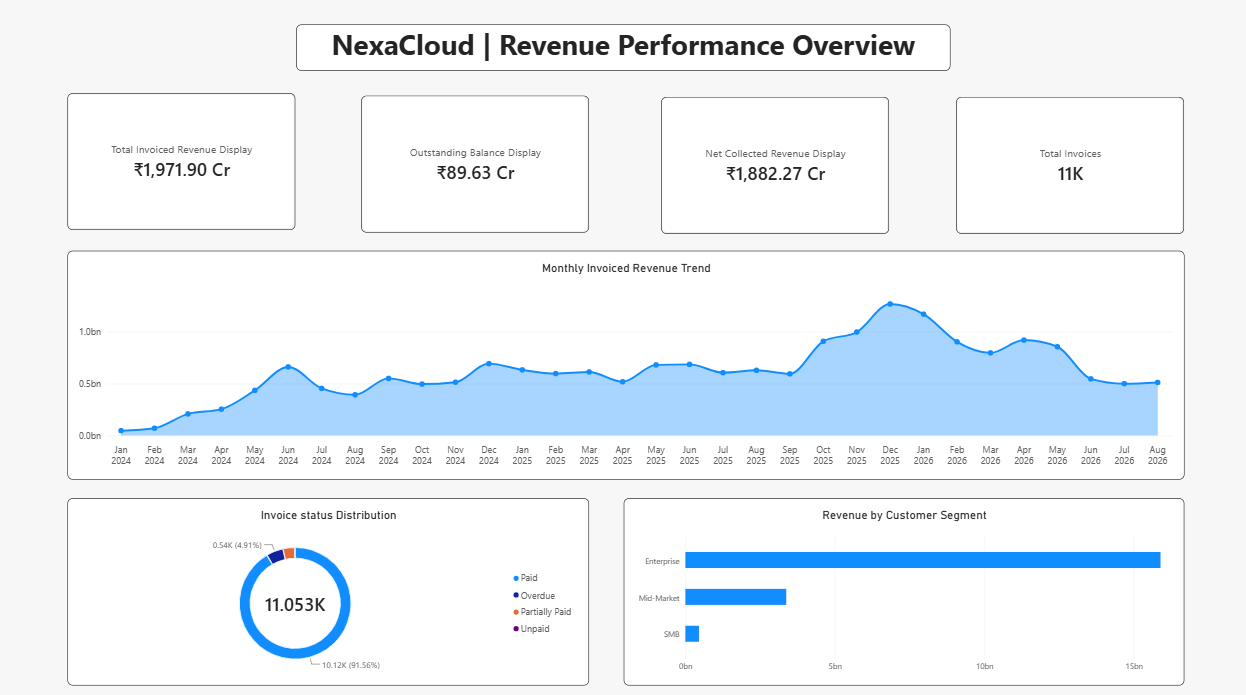

This screenshot's page, from the dashboard's own definition file:
{"tool":"powerbi","page":{"name":"Revenue Performance Overview","canvas":[1920,1080],"ordinal":0},"visuals":[{"type":"cardVisual","fields":{"Data":["invoices.Total Invoiced Revenue Display"]},"box":[104.4,148.9,350,210],"z":0},{"type":"cardVisual","fields":{"Data":["invoices.Outstanding Balance Display"]},"box":[555.6,151.1,350,210],"z":1000},{"type":"cardVisual","fields":{"Data":["invoices.Total Invoices"]},"box":[1471.1,153.3,350,210],"z":2000},{"type":"lineChart","title":"Monthly Invoiced Revenue Trend","fields":{"Category":["invoices.Invoice Month"],"Y":["Sum(invoices.invoice_amount)"]},"box":[104.4,391.1,1718,352],"z":3000},{"type":"donutChart","title":"Invoice status Distribution","fields":{"Category":["invoices.invoice_status"],"Y":["CountNonNull(invoices.invoice_id)"]},"box":[104.4,771.1,802,288],"z":4000},{"type":"barChart","title":"Revenue by Customer Segment","fields":{"Category":["customers.customer_segment"],"Y":["Sum(invoices.invoice_amount)"]},"box":[960,771.1,862,288],"z":5000},{"type":"cardVisual","fields":{"Data":["invoices.Net Collected Revenue Display"]},"box":[1018,154,350,210],"z":6000},{"type":"textbox","box":[455.6,42.2,1006.7,71.1],"z":7000}]}

Visuals, with their boxes in screenshot pixels (x1, y1, x2, y2), scaled from the page's 1920x1080 canvas onto the 1246x695 screenshot:
cardVisual - invoices.Total Invoiced Revenue Display: x1=68 y1=96 x2=295 y2=231
cardVisual - invoices.Outstanding Balance Display: x1=361 y1=97 x2=588 y2=232
cardVisual - invoices.Total Invoices: x1=955 y1=99 x2=1182 y2=234
"Monthly Invoiced Revenue Trend" lineChart: x1=68 y1=252 x2=1183 y2=478
"Invoice status Distribution" donutChart: x1=68 y1=496 x2=588 y2=682
"Revenue by Customer Segment" barChart: x1=623 y1=496 x2=1182 y2=682
cardVisual - invoices.Net Collected Revenue Display: x1=661 y1=99 x2=888 y2=234
textbox: x1=296 y1=27 x2=949 y2=73
